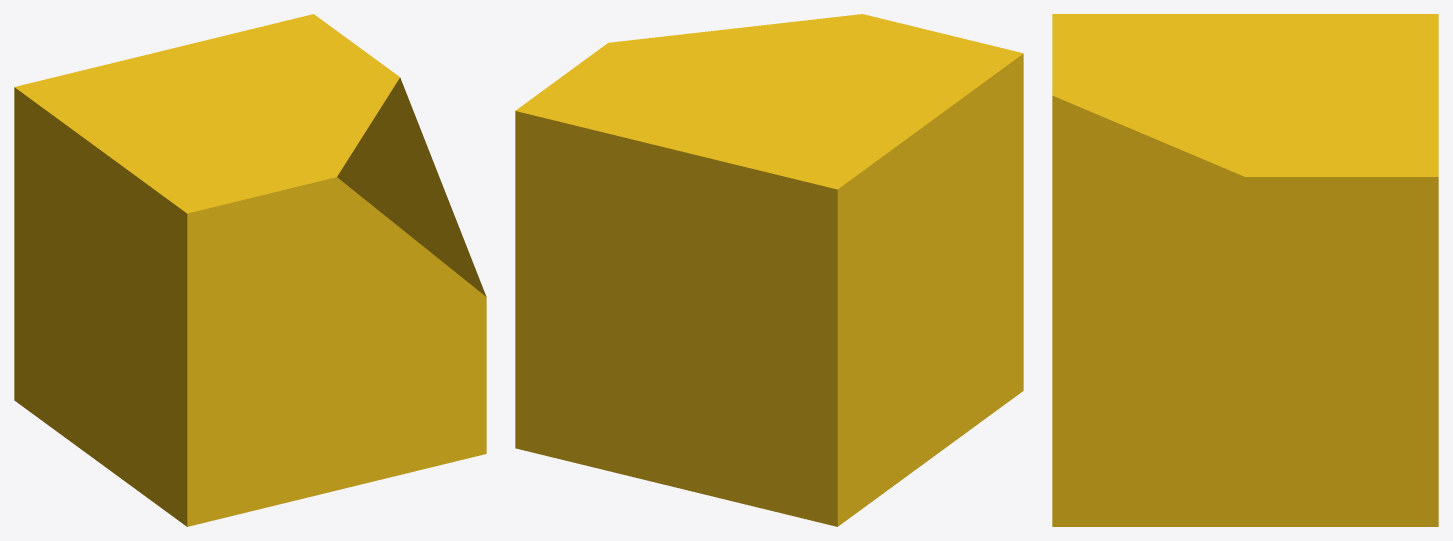
The model's file is r3c1_body_yellow.gltf.
The picture shows the model from 3 angles, left to right: view 1: azimuth 30°, elevation 25°; view 2: azimuth 150°, elevation 25°; view 3: azimuth 270°, elevation 25°; orthographic projection. The views are drawn at different scales.
Visible parts, largest first — view 1: r3c1_body_yellow; view 2: r3c1_body_yellow; view 3: r3c1_body_yellow.
Part boxes in pixels (x1,y1,x2,y2): r3c1_body_yellow: [14, 14, 486, 526]; r3c1_body_yellow: [515, 14, 1023, 526]; r3c1_body_yellow: [1052, 14, 1438, 526].
Size of the model in its own units: 2 by 2 by 2.
1 material, 1 textured.
